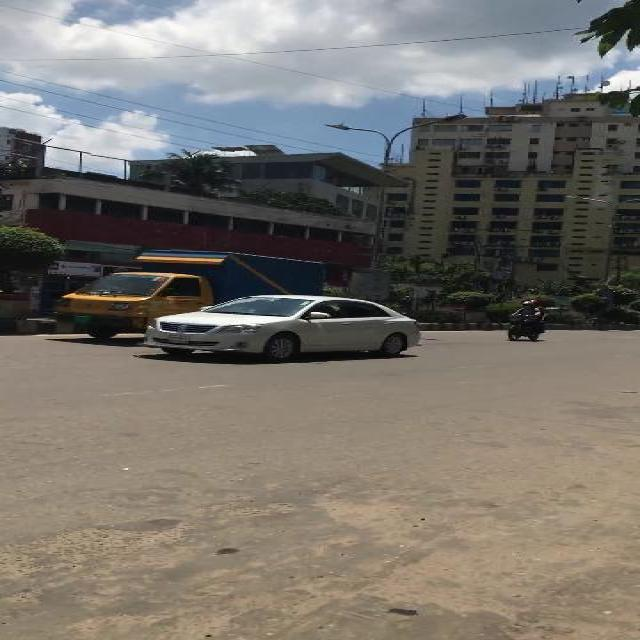car: (134, 294, 424, 358)
motorbike: (504, 297, 548, 341)
pickup: (47, 246, 323, 338)
